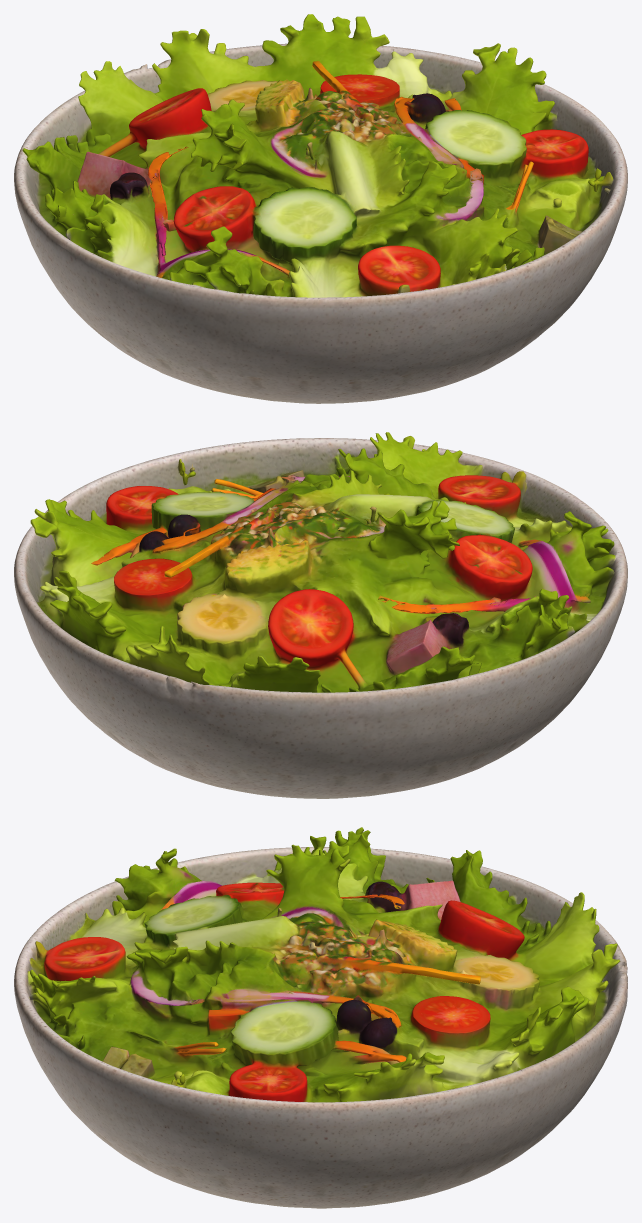
Rendered from salad bowl 3d model.glb.
3 views of the same model, one above another, from view 1: azimuth 30°, elevation 25°; view 2: azimuth 150°, elevation 25°; view 3: azimuth 270°, elevation 25° (orthographic).
Visible parts, largest first — view 1: tripo_node_306df02e-be2e-41aa-91b2-6c1dd0d77c04; view 2: tripo_node_306df02e-be2e-41aa-91b2-6c1dd0d77c04; view 3: tripo_node_306df02e-be2e-41aa-91b2-6c1dd0d77c04.
Boxes of the visible parts, x1,y1,x2,y2 form: tripo_node_306df02e-be2e-41aa-91b2-6c1dd0d77c04: [14, 14, 627, 403]; tripo_node_306df02e-be2e-41aa-91b2-6c1dd0d77c04: [14, 432, 627, 798]; tripo_node_306df02e-be2e-41aa-91b2-6c1dd0d77c04: [14, 827, 627, 1208].
Bounding box in the file's own units: 1 × 0.4493 × 0.9975.
Materials: 1 (1 with a texture image).
